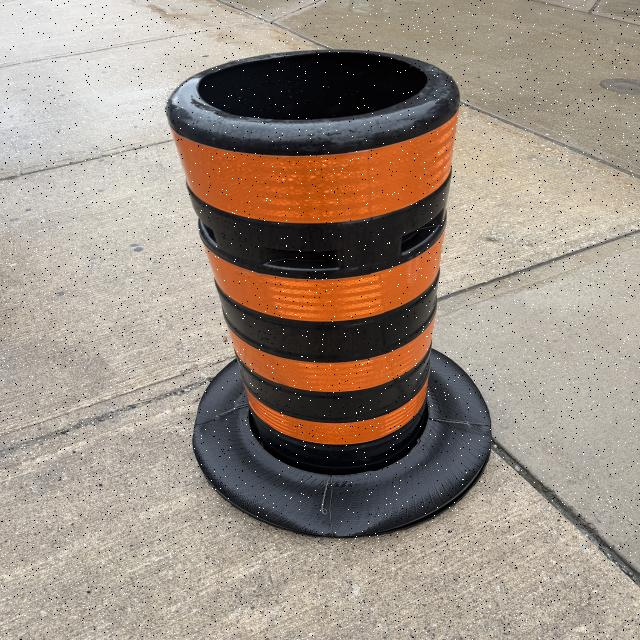Teraffic Barrel: (167, 51, 491, 536)
